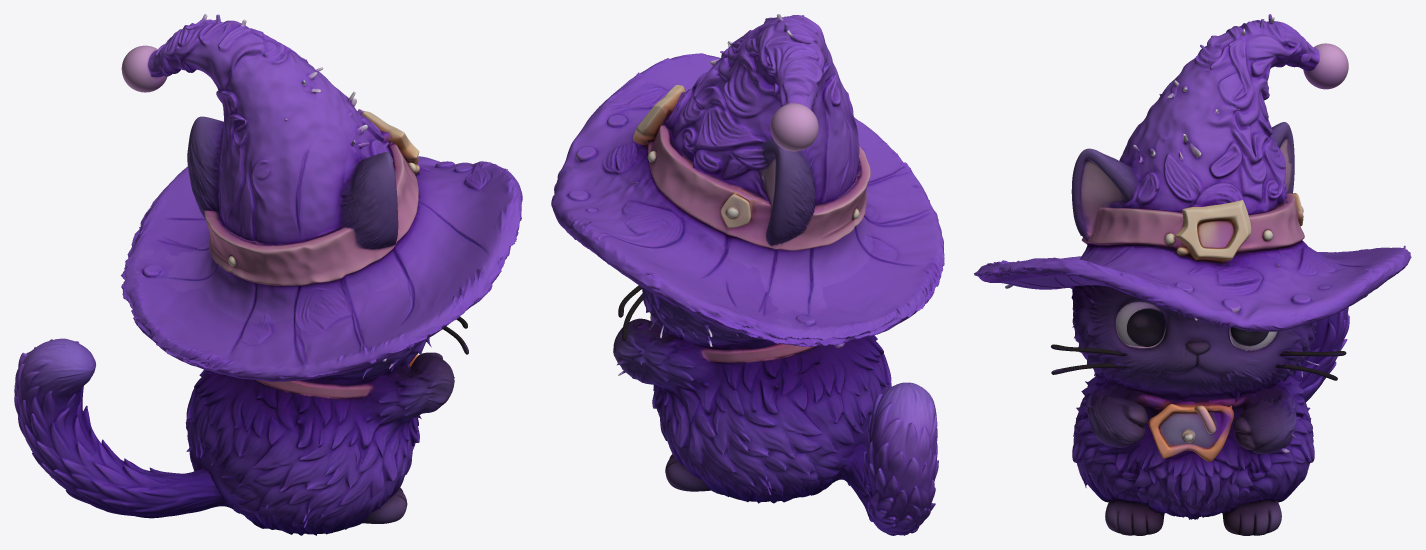
Rendered from 紫色小猫_draco.glb.
3 renders of one model, left to right at view 1: azimuth 30°, elevation 25°; view 2: azimuth 150°, elevation 25°; view 3: azimuth 270°, elevation 25°, orthographic. The views are drawn at different scales.
Parts seen in each view (by area): view 1: tripo_node_6475dced-5626-42b1-8180-b45eb9947cd5; view 2: tripo_node_6475dced-5626-42b1-8180-b45eb9947cd5; view 3: tripo_node_6475dced-5626-42b1-8180-b45eb9947cd5.
Boxes of the visible parts, <box> form: tripo_node_6475dced-5626-42b1-8180-b45eb9947cd5: <box>14,14,522,535</box>; tripo_node_6475dced-5626-42b1-8180-b45eb9947cd5: <box>551,14,944,535</box>; tripo_node_6475dced-5626-42b1-8180-b45eb9947cd5: <box>974,14,1411,535</box>.
Bounding box in the file's own units: 0.8948 × 0.9984 × 0.8576.
Materials: 1 (1 with a texture image).
